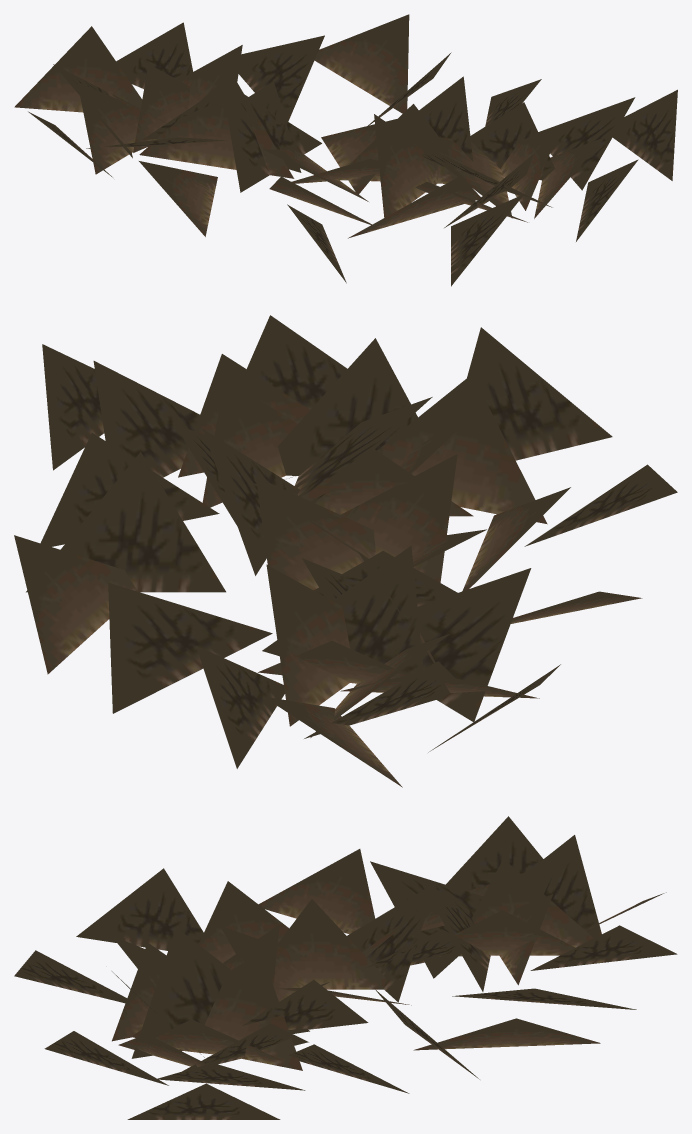
File: dec_dry_grass_06_9797.glb
3 views of the same model, one above another, from view 1: azimuth 30°, elevation 25°; view 2: azimuth 150°, elevation 25°; view 3: azimuth 270°, elevation 25° (orthographic). The views are drawn at different scales.
Parts seen in each view (by area): view 1: dry_grass_06_mesh; view 2: dry_grass_06_mesh; view 3: dry_grass_06_mesh.
Boxes of the visible parts, x1,y1,x2,y2 form: dry_grass_06_mesh: (14,14,677,286); dry_grass_06_mesh: (14,315,677,787); dry_grass_06_mesh: (14,816,677,1119).
Size of the model in its own units: 2.09 by 0.278 by 2.19.
1 material, 1 textured.
